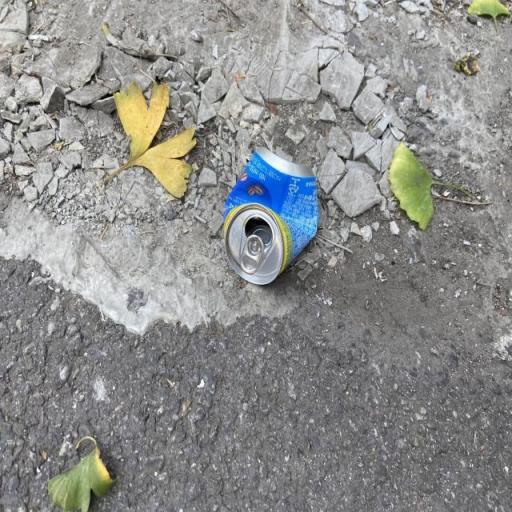metal: (207, 120, 337, 304)
